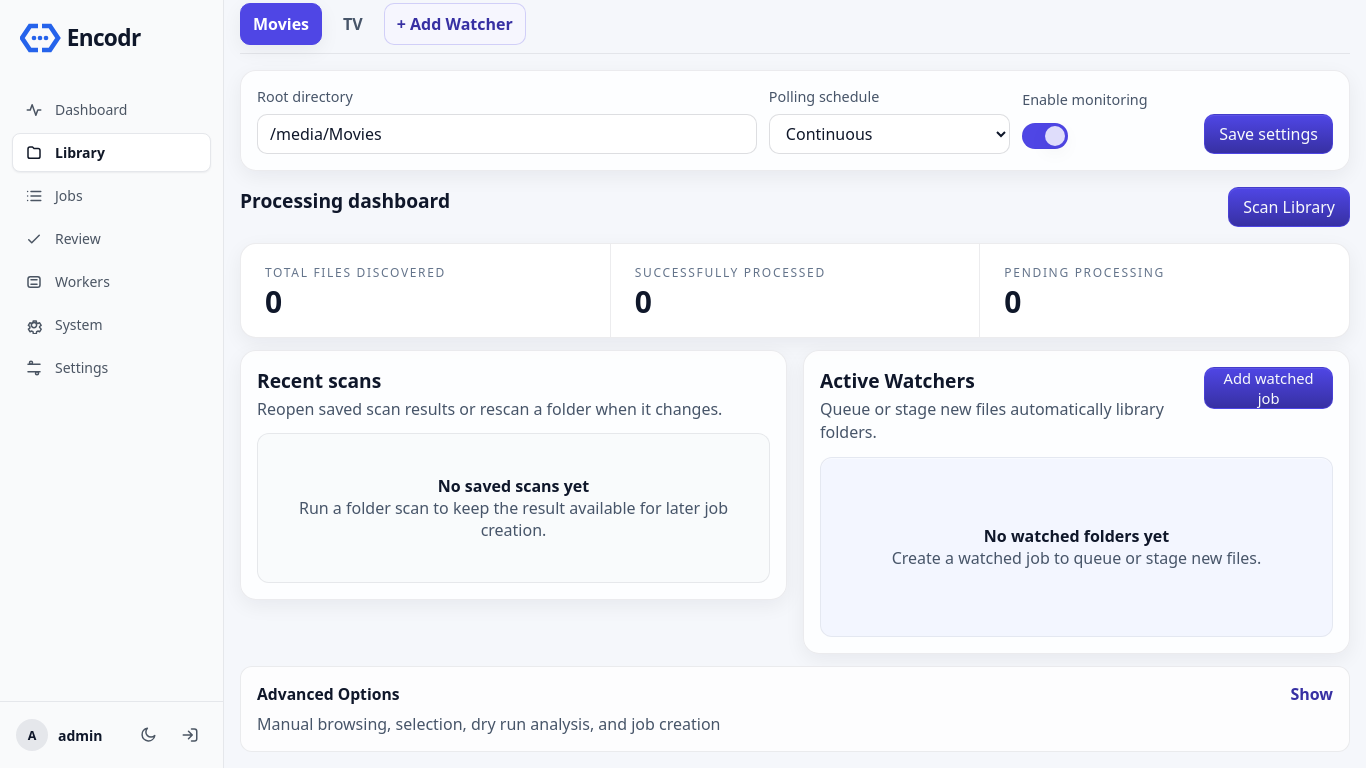
Test case: Encodr UI shell › renders the redesigned library workspace and lets tabs switch cleanly
(page scrolled)
Expected: the tab "TV" is shown, [330, 3, 376, 45]
Expected: the button "+ Add Watcher" is shown, [384, 3, 526, 45]
Click the button "Advanced Options" at [328, 694], box [241, 667, 1349, 751]
(page scrolled)
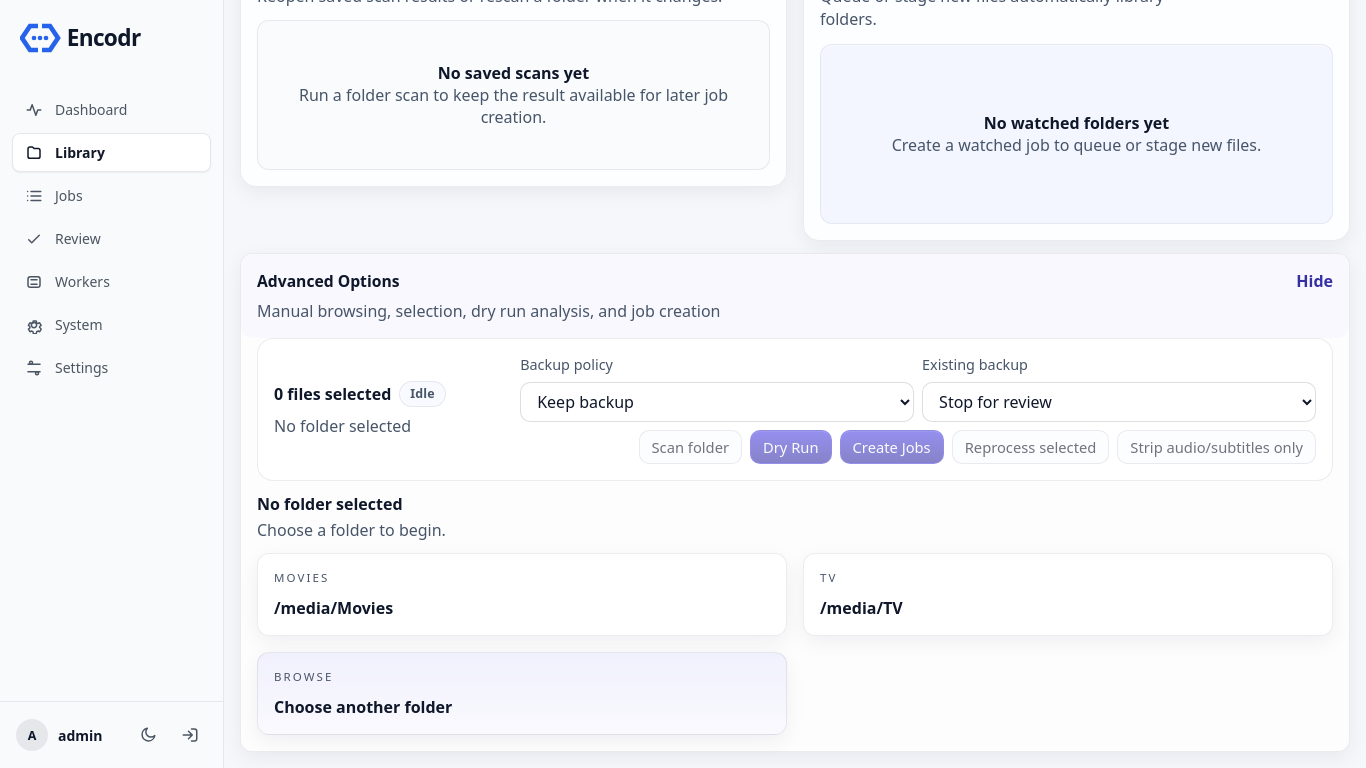
Expected: the button "Browse Choose another folder" is shown, [257, 652, 787, 735]
Click the button "Movies /media/Movies" at [302, 577], box [257, 553, 787, 636]
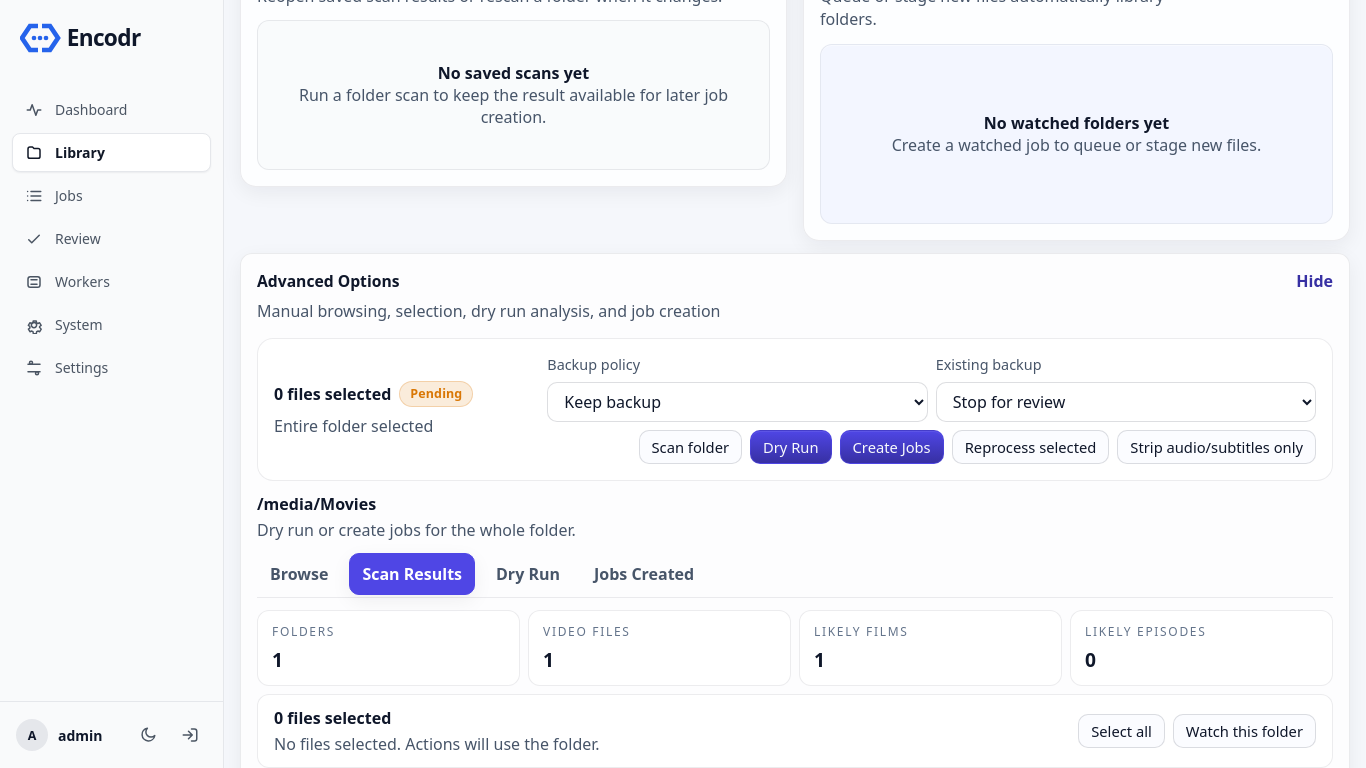
Expected: the tab "Browse" is shown, [257, 553, 341, 595]
Click the tab "Dry Run" at [528, 574], box [483, 553, 573, 595]
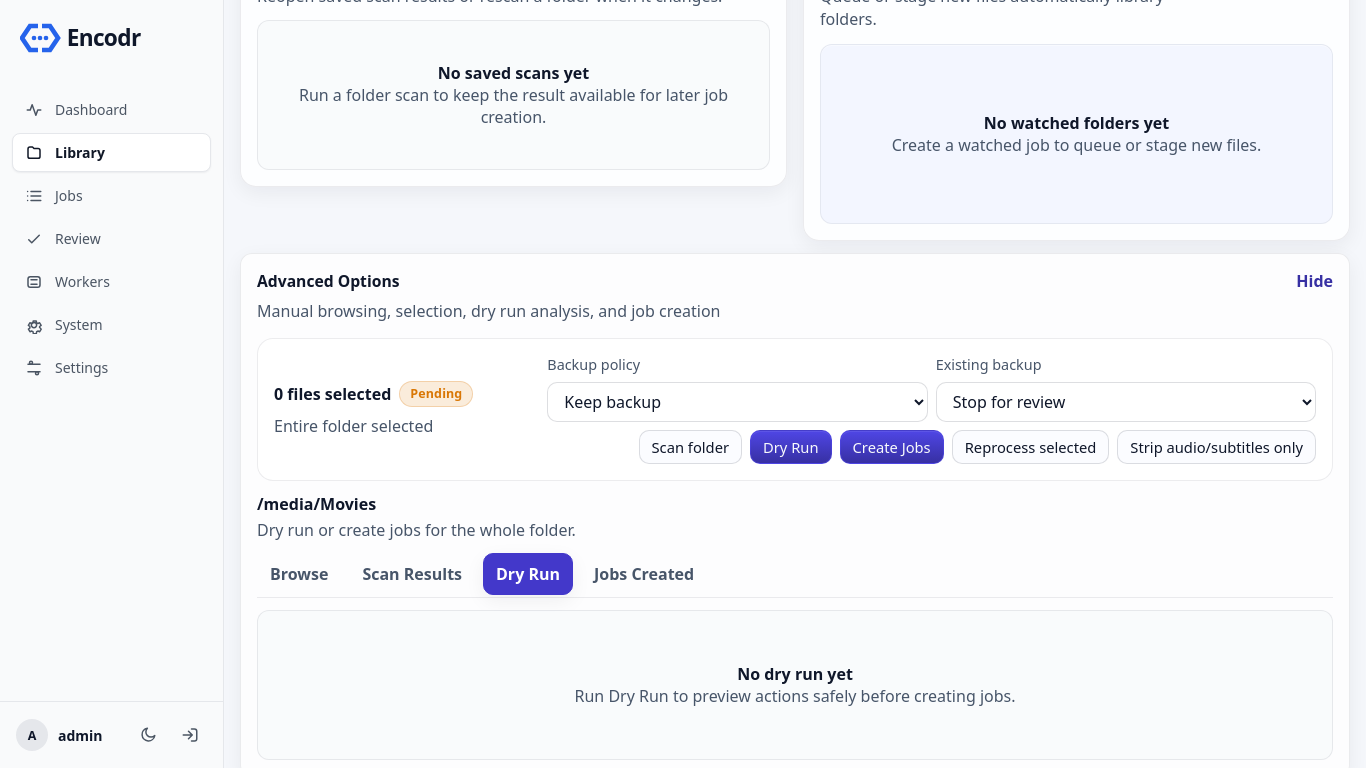
Expected: the text "No dry run yet" is shown, [737, 663, 853, 685]
Click the tab "Jobs Created" at [644, 574], box [581, 553, 707, 595]
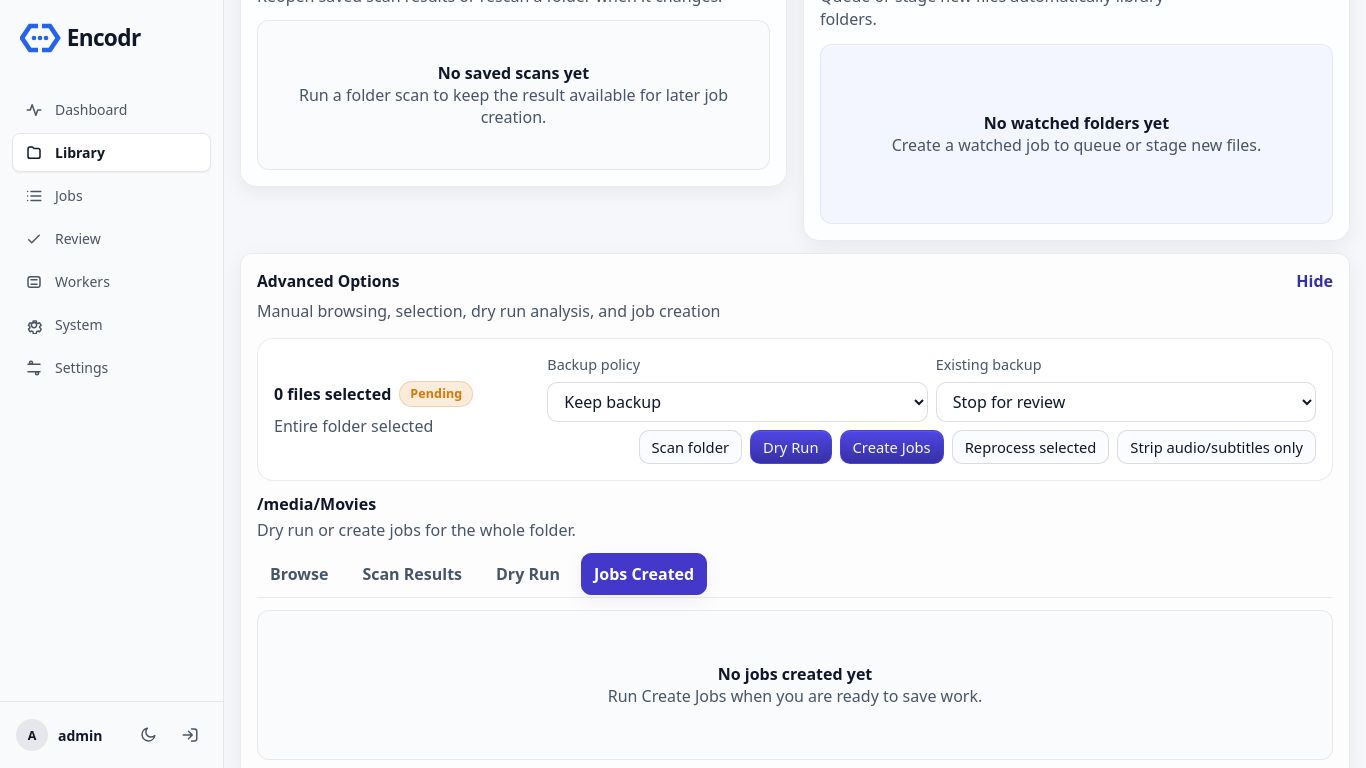
Expected: the text "No jobs created yet" is shown, [718, 663, 872, 685]
